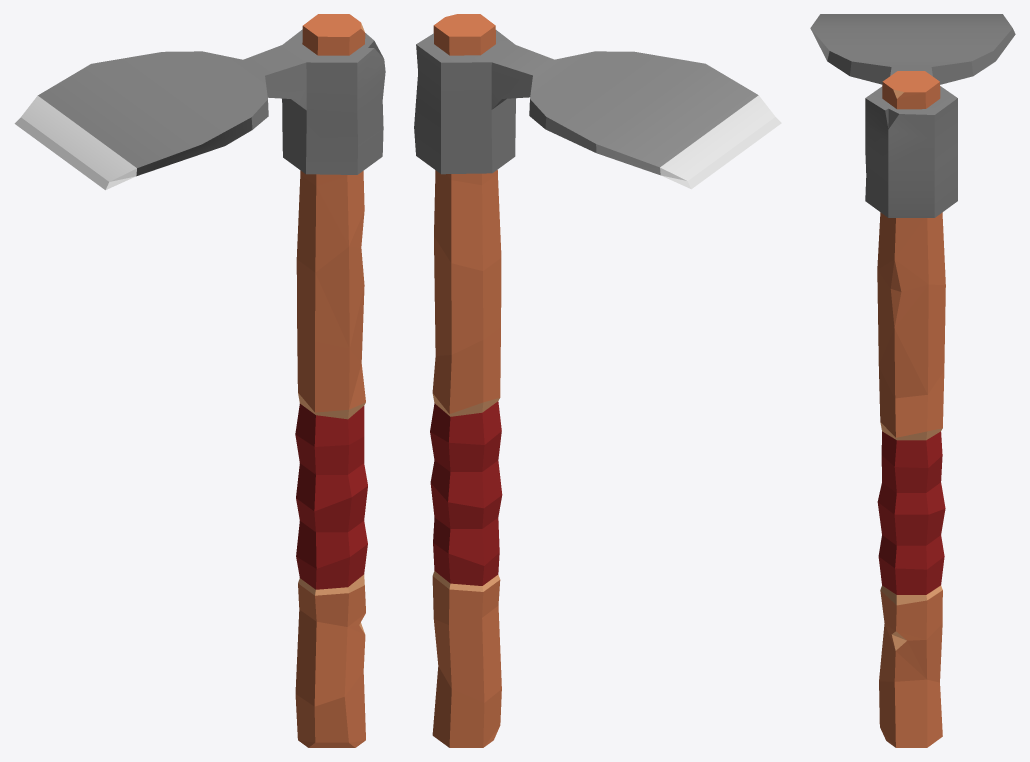
File: hoe.glb
The picture shows the model from 3 angles, left to right: view 1: azimuth 30°, elevation 25°; view 2: azimuth 150°, elevation 25°; view 3: azimuth 270°, elevation 25°; orthographic projection. The views are drawn at different scales.
Parts seen in each view (by area): view 1: Foodmaker_Hoe; view 2: Foodmaker_Hoe; view 3: Foodmaker_Hoe.
Part boxes in pixels (x1=…): Foodmaker_Hoe: x1=14, y1=14, x2=385, y2=747; Foodmaker_Hoe: x1=414, y1=14, x2=781, y2=747; Foodmaker_Hoe: x1=810, y1=14, x2=1015, y2=747.
Bounding box in the file's own units: 1 × 2.19 × 0.6209.
Materials: 1 (1 with a texture image).
